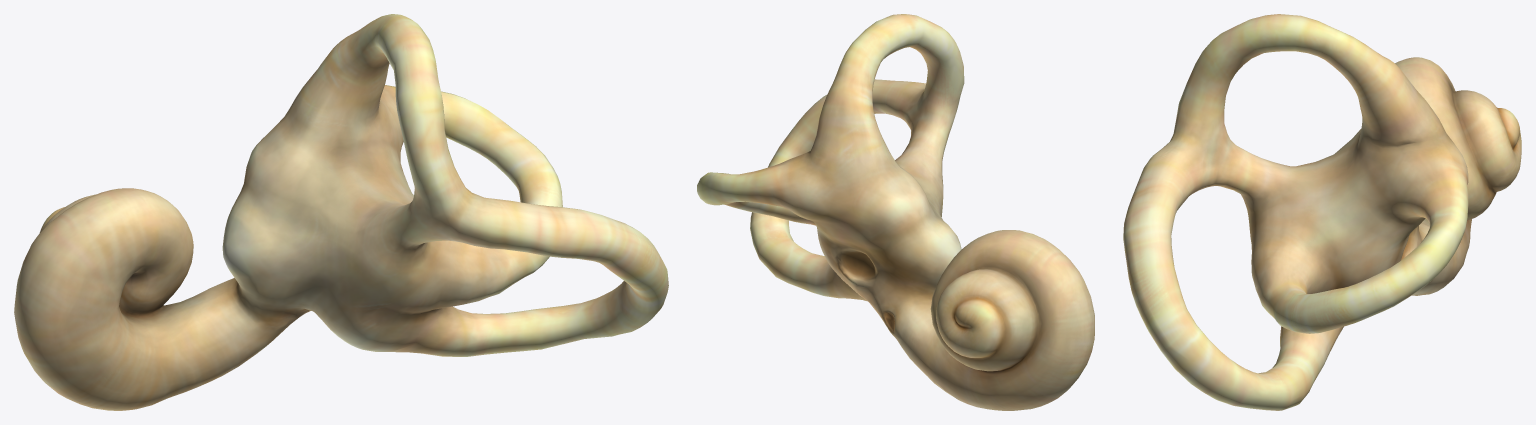
The model's file is lsnail.glb.
The picture shows the model from 3 angles, left to right: view 1: azimuth 30°, elevation 25°; view 2: azimuth 150°, elevation 25°; view 3: azimuth 270°, elevation 25°; orthographic projection. The views are drawn at different scales.
Visible parts, largest first — view 1: aaaaa; view 2: aaaaa; view 3: aaaaa.
Part boxes in pixels (left/top/right/bottom): aaaaa: left=14, top=14, right=668, bottom=410; aaaaa: left=697, top=14, right=1094, bottom=410; aaaaa: left=1123, top=14, right=1521, bottom=410.
Bounding box in the file's own units: 8.7 × 6.08 × 6.22.
Materials: 1 (1 with a texture image).
